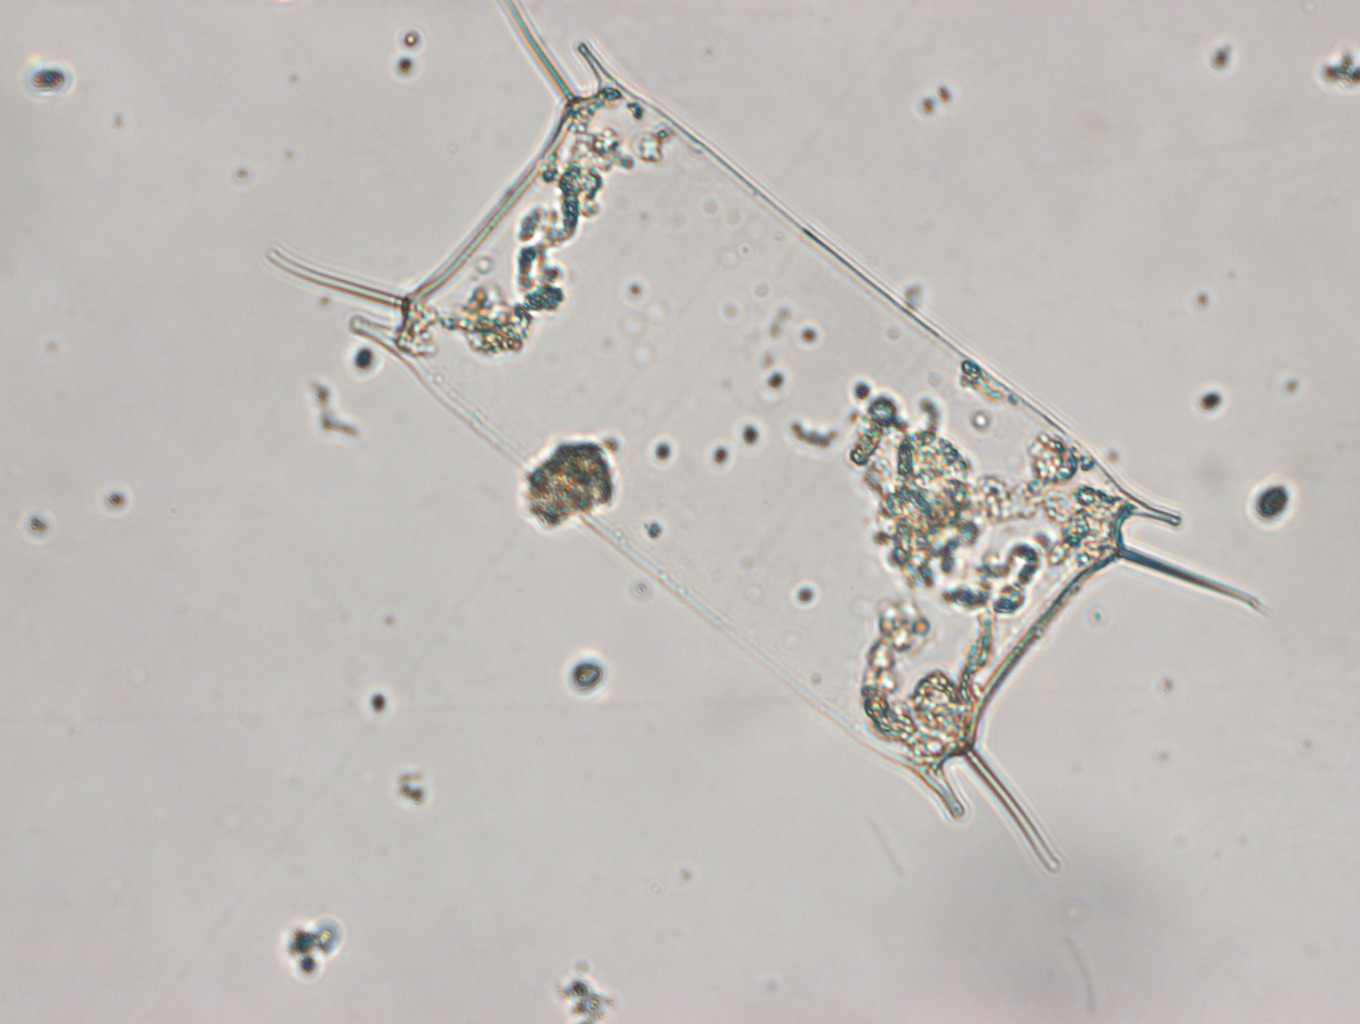biddulphia: (263, 1, 1273, 872)
